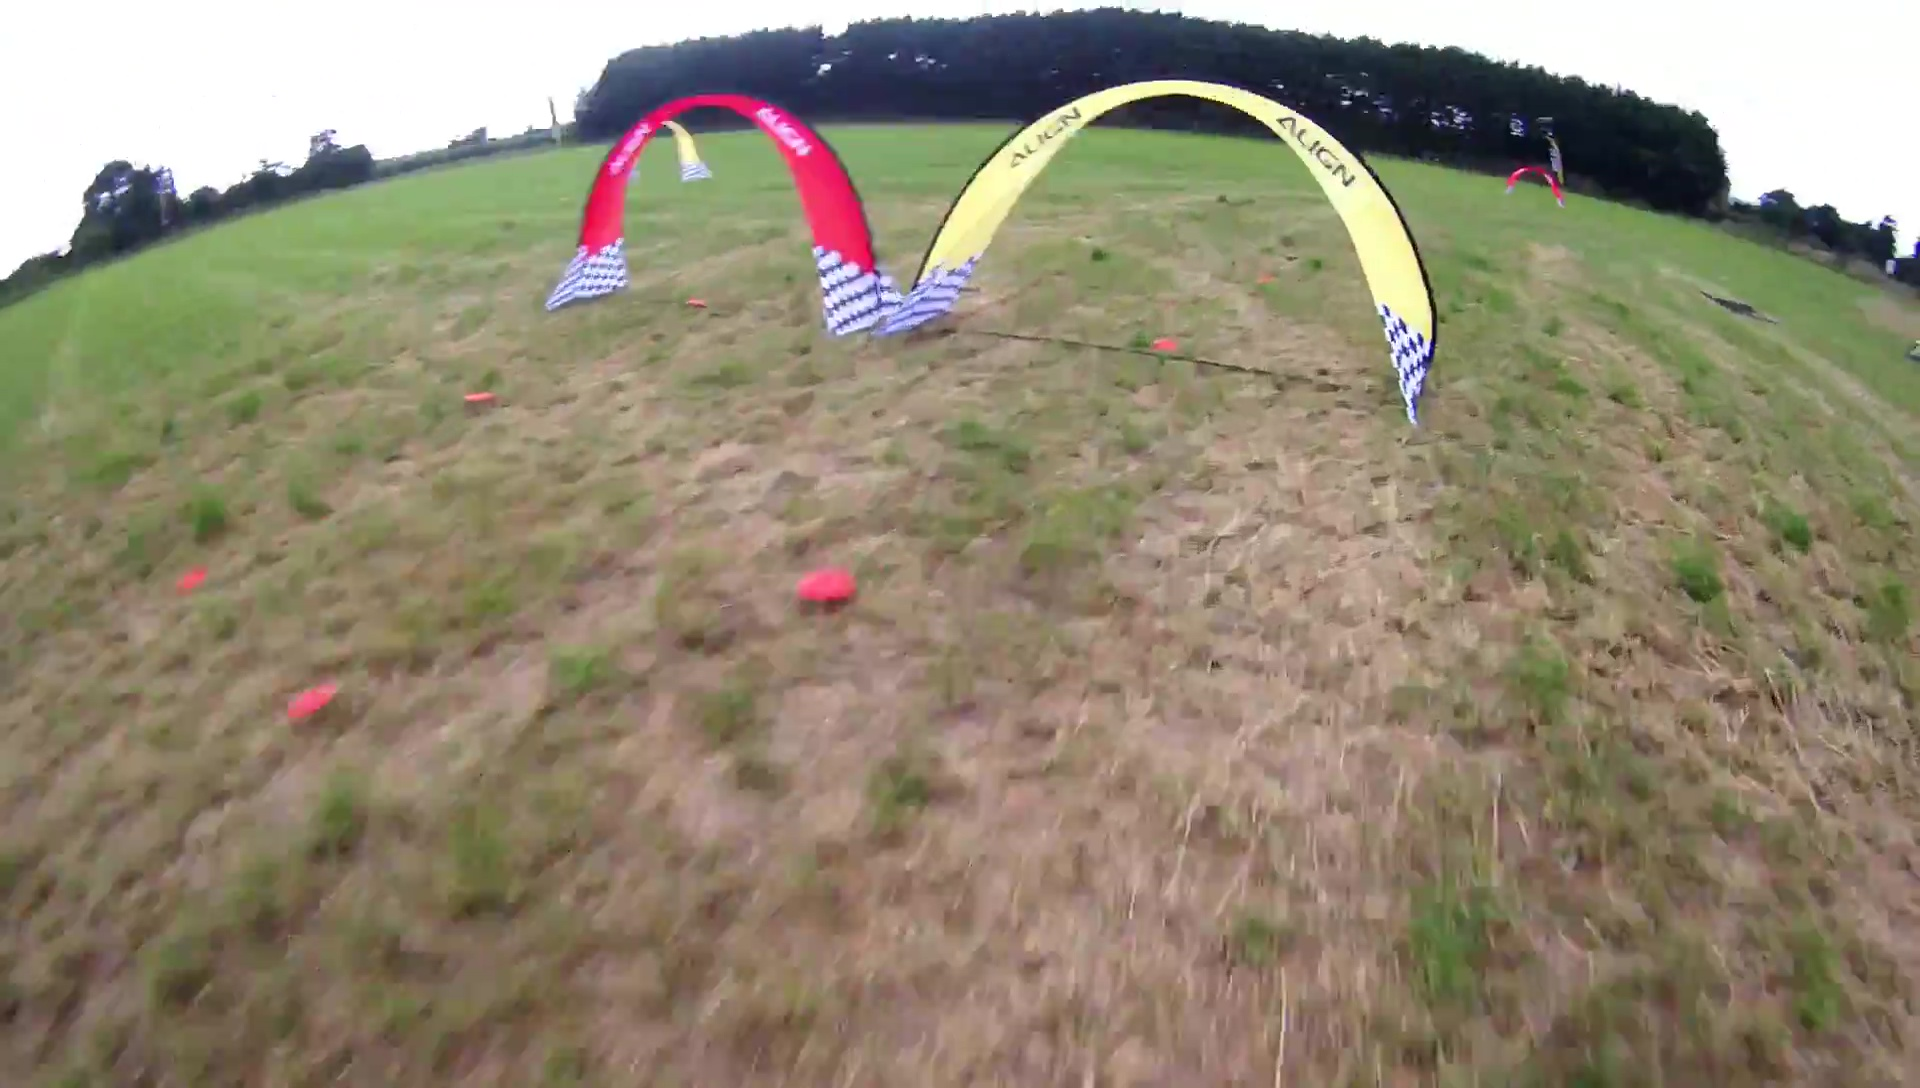gate: (890, 74, 1443, 423), (547, 88, 891, 340), (1501, 165, 1568, 210)
